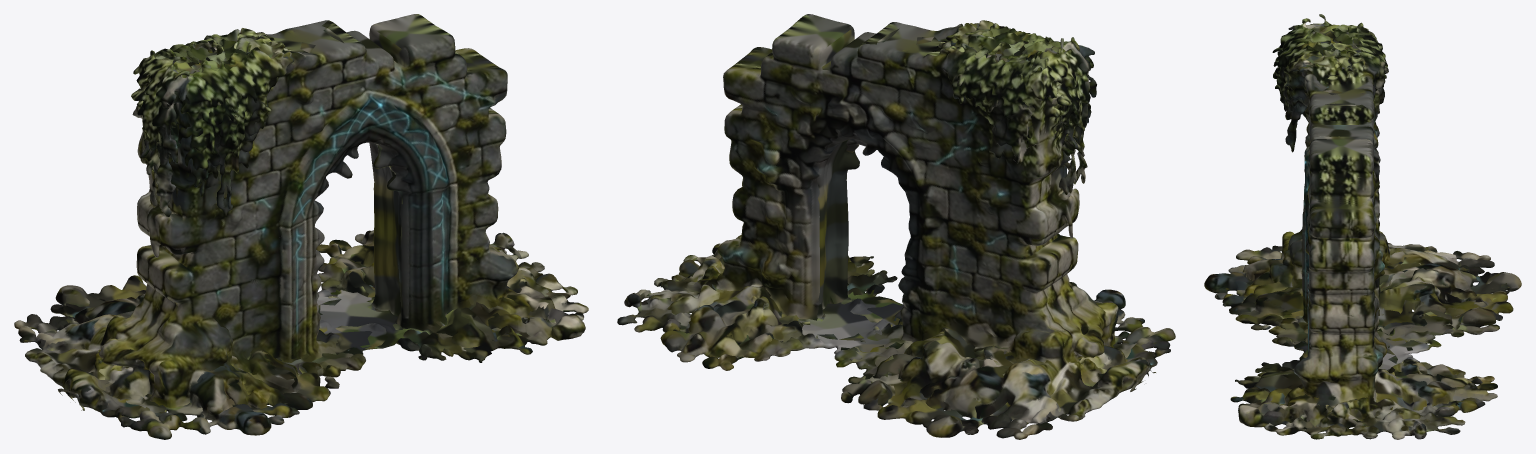
The model's file is struct_ruin_arch.glb.
The picture shows the model from 3 angles, left to right: view 1: azimuth 30°, elevation 25°; view 2: azimuth 150°, elevation 25°; view 3: azimuth 270°, elevation 25°; orthographic projection. The views are drawn at different scales.
Parts seen in each view (by area): view 1: geometry_0; view 2: geometry_0; view 3: geometry_0.
Part boxes in pixels (left/top/right/bottom): geometry_0: left=14, top=14, right=588, bottom=439; geometry_0: left=617, top=14, right=1175, bottom=439; geometry_0: left=1204, top=14, right=1521, bottom=439.
Bounding box in the file's own units: 10.64 × 6.8 × 7.26.
Materials: 1 (1 with a texture image).
